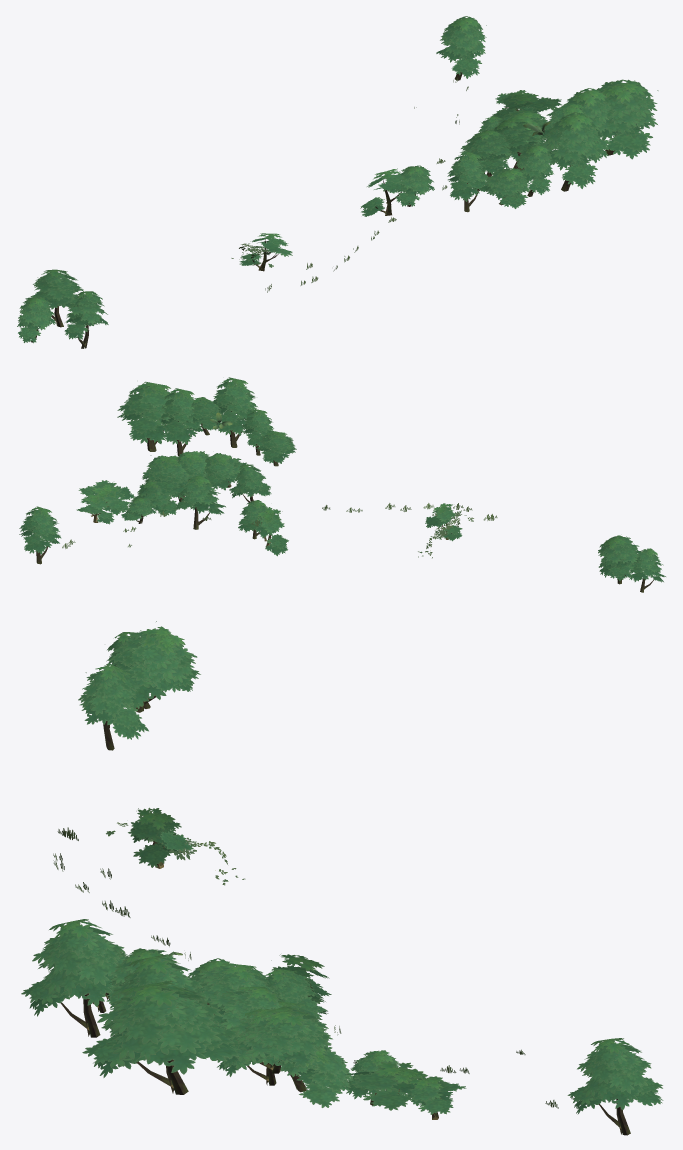
The model's file is pref_sm_4v4pointbake_WSJ_CSD_L02_lv2.fbx.
3 views of the same model, one above another, from view 1: azimuth 30°, elevation 25°; view 2: azimuth 150°, elevation 25°; view 3: azimuth 270°, elevation 25° (orthographic). The views are drawn at different scales.
Visible parts, largest first — view 1: pref_sm_4v4pointbake_WSJ_CSD_L02_lv2; view 2: pref_sm_4v4pointbake_WSJ_CSD_L02_lv2; view 3: pref_sm_4v4pointbake_WSJ_CSD_L02_lv2.
Boxes of the visible parts, <box> form: pref_sm_4v4pointbake_WSJ_CSD_L02_lv2: <box>17,16,658,348</box>; pref_sm_4v4pointbake_WSJ_CSD_L02_lv2: <box>19,377,665,592</box>; pref_sm_4v4pointbake_WSJ_CSD_L02_lv2: <box>21,621,663,1135</box>.
Size of the model in its own units: 45.17 by 8.25 by 25.24.
